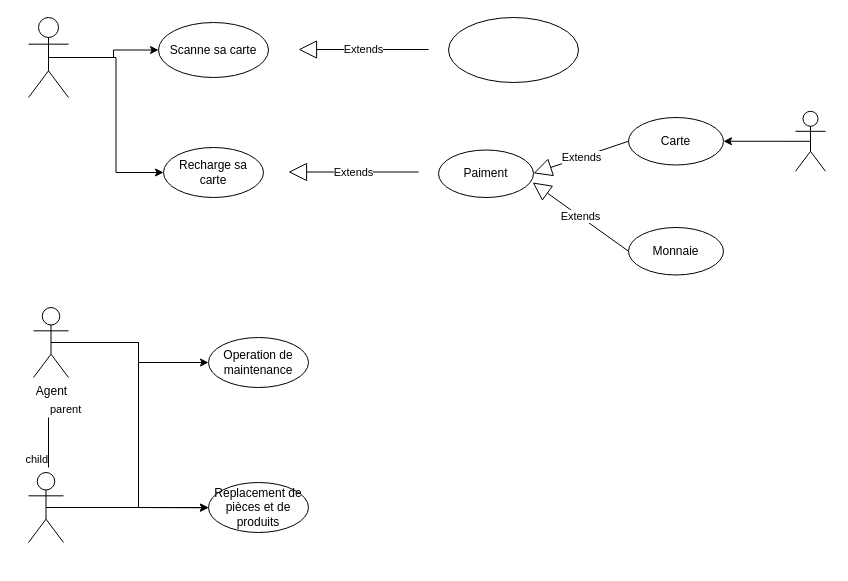
This 848x581 diagram has some shape labels left out. The shapes that lost their labels are listed below. From the top down, each one's centre as x and y in pixels, then its label:
At pixel 48 57: "Client".
At pixel 513 49: "Vérifie si la carte à encore des trajtes".
At pixel 810 140: "Banque".
At pixel 46 507: "Technicien".
